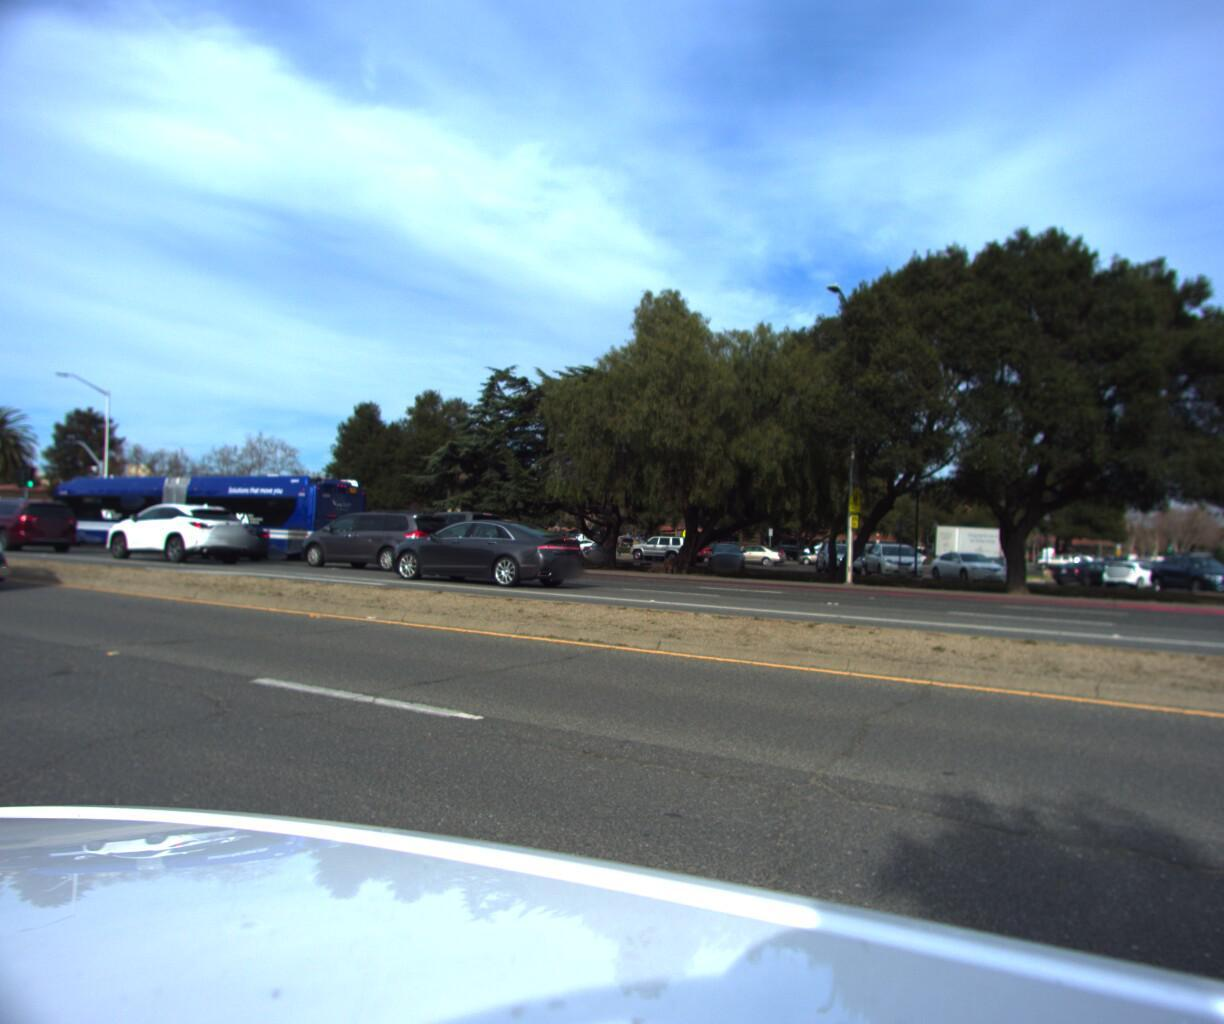bus: (37, 476, 389, 570)
car: (366, 516, 601, 593), (368, 509, 559, 582), (85, 500, 269, 573), (288, 506, 474, 578), (138, 513, 288, 562), (0, 499, 91, 560), (0, 501, 27, 602)
